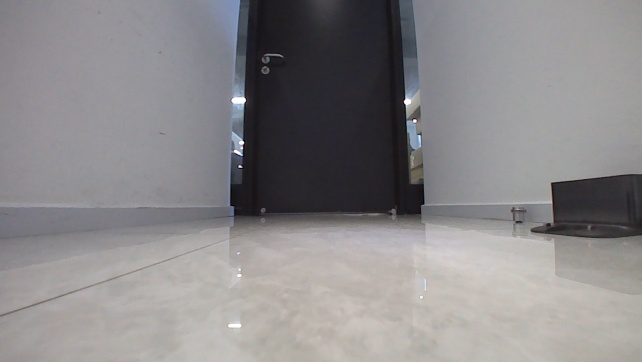charger: (530, 169, 641, 241)
door_anno: (239, 0, 411, 215)
